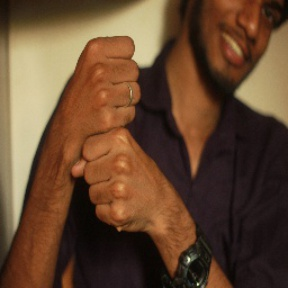G: (47, 30, 161, 234)
